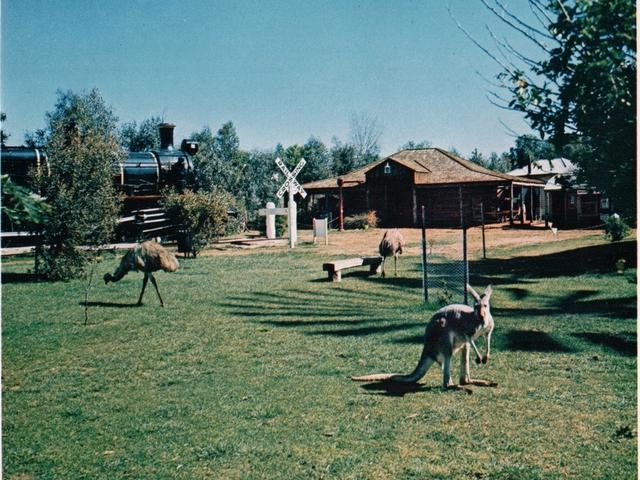kangaroo: (344, 260, 536, 426)
